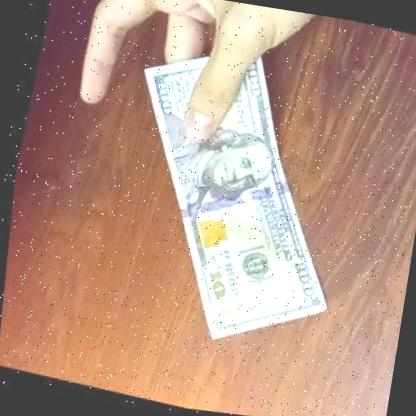dollar_front: (66, 5, 392, 376)
